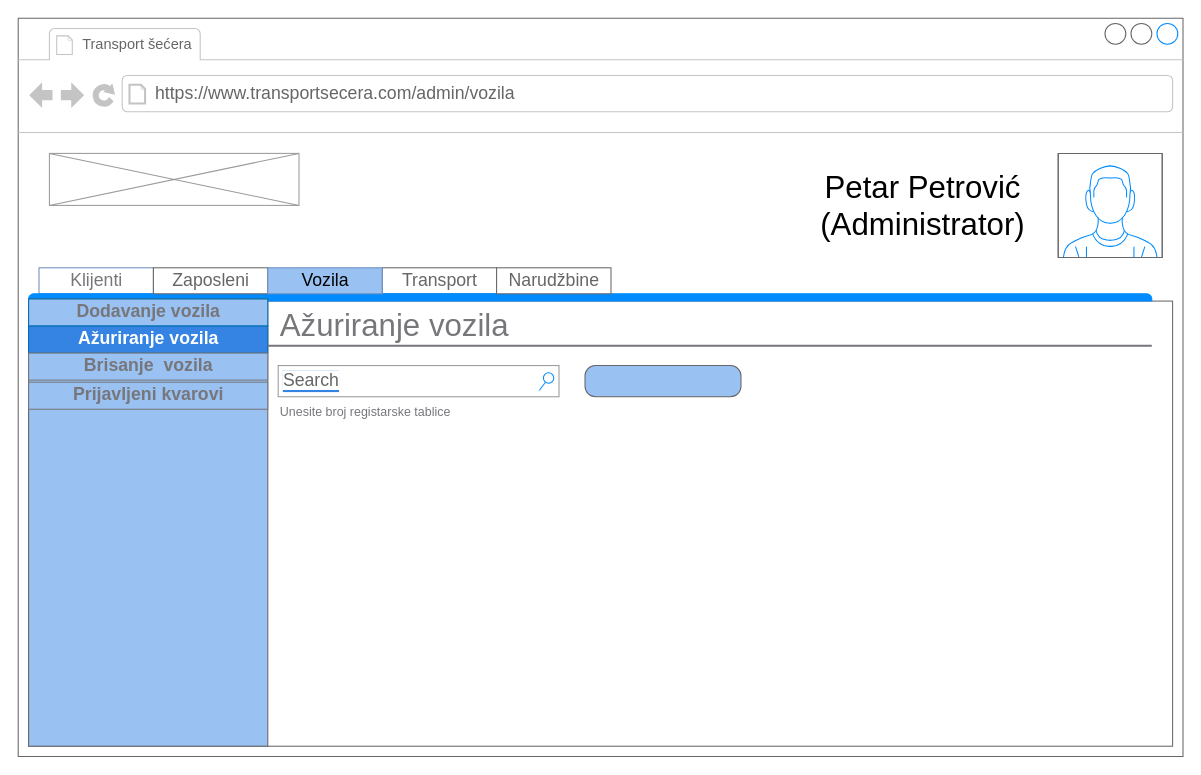
The diagram is 1201 pixels wide and 775 high, and some of its shapes have lost their labels. Here are the shapes that lost their labels. From the top down, the centre of each, then its label:
At pixel 173 178: "LOGO".
At pixel 662 381: "Pretraži".
